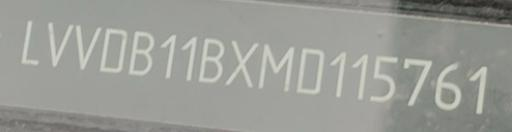letter: (257, 43, 295, 95), (222, 39, 260, 89), (294, 47, 326, 97), (368, 52, 400, 102), (402, 55, 432, 107), (434, 61, 464, 111), (44, 19, 74, 67), (196, 36, 226, 84), (74, 23, 102, 72), (100, 27, 128, 74), (16, 17, 42, 66), (128, 30, 154, 79), (468, 63, 488, 115), (157, 32, 177, 82), (328, 49, 348, 99), (349, 52, 369, 102), (179, 34, 197, 84)
